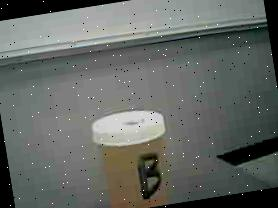Bottle B: (80, 99, 190, 208)
